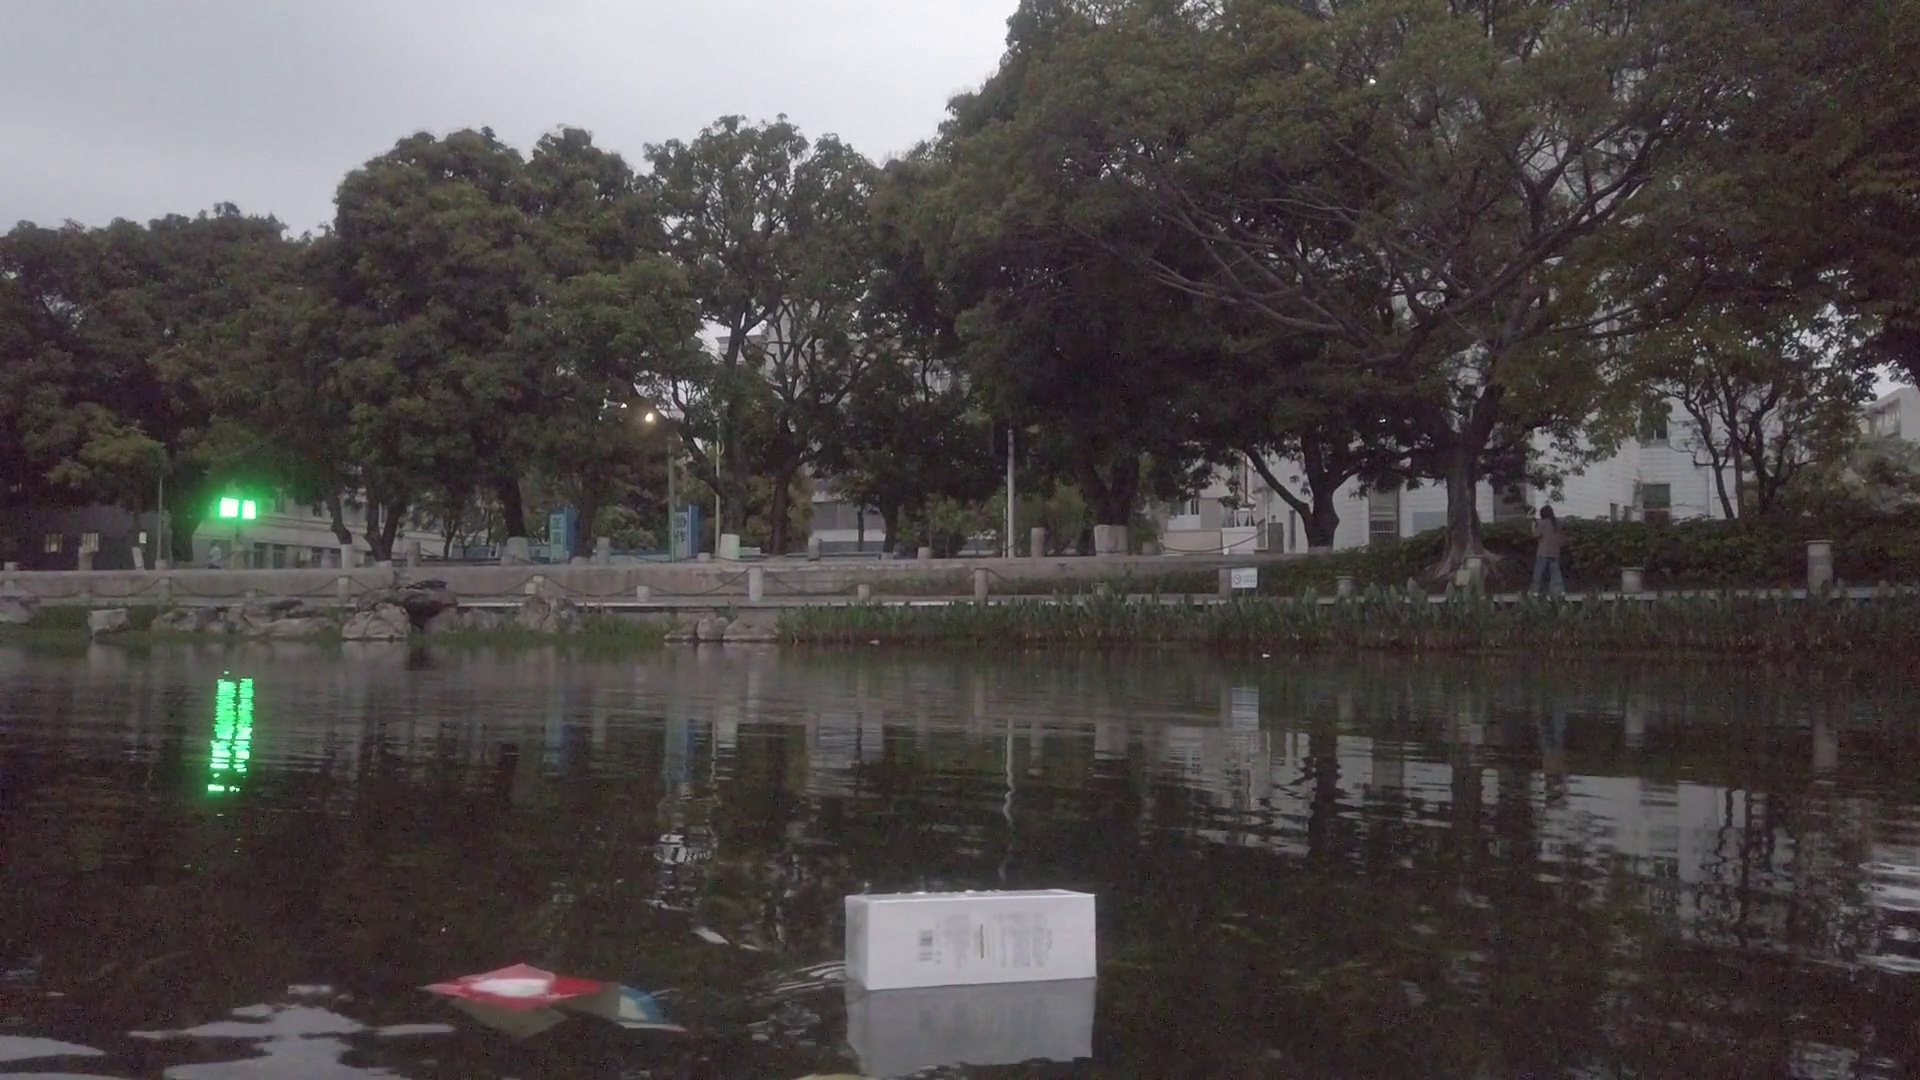carton: (845, 887, 1102, 990)
paper: (419, 953, 640, 1034)
